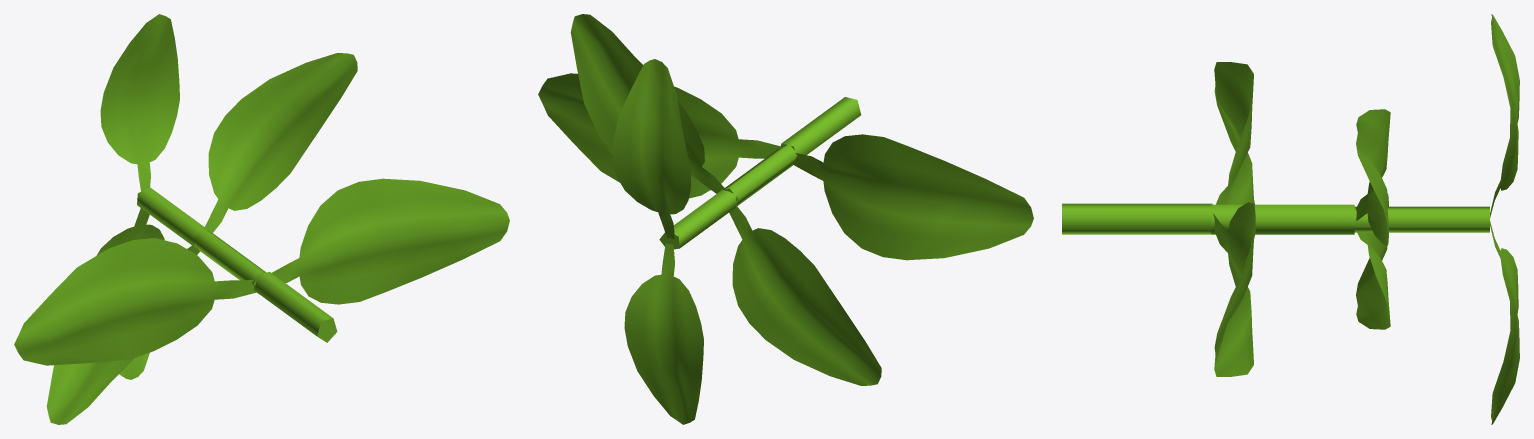
3 renders of one model, left to right at view 1: azimuth 30°, elevation 25°; view 2: azimuth 150°, elevation 25°; view 3: azimuth 270°, elevation 25°, orthographic. The views are drawn at different scales.
Parts seen in each view (by area): view 1: Root; view 2: Root; view 3: Root.
Boxes of the visible parts, <box> form: Root: <box>14,14,509,424</box>; Root: <box>538,14,1033,424</box>; Root: <box>1062,14,1519,424</box>.
Bounding box in the file's own units: 2.5 × 1.73 × 1.69.
